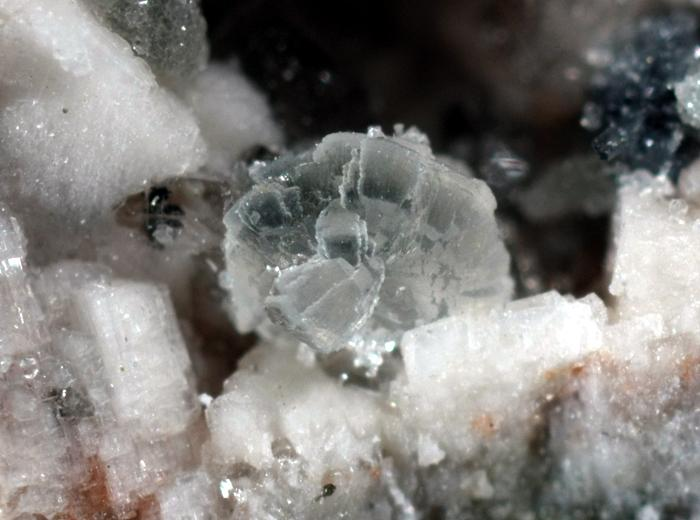prehnite: (0, 1, 700, 520)
